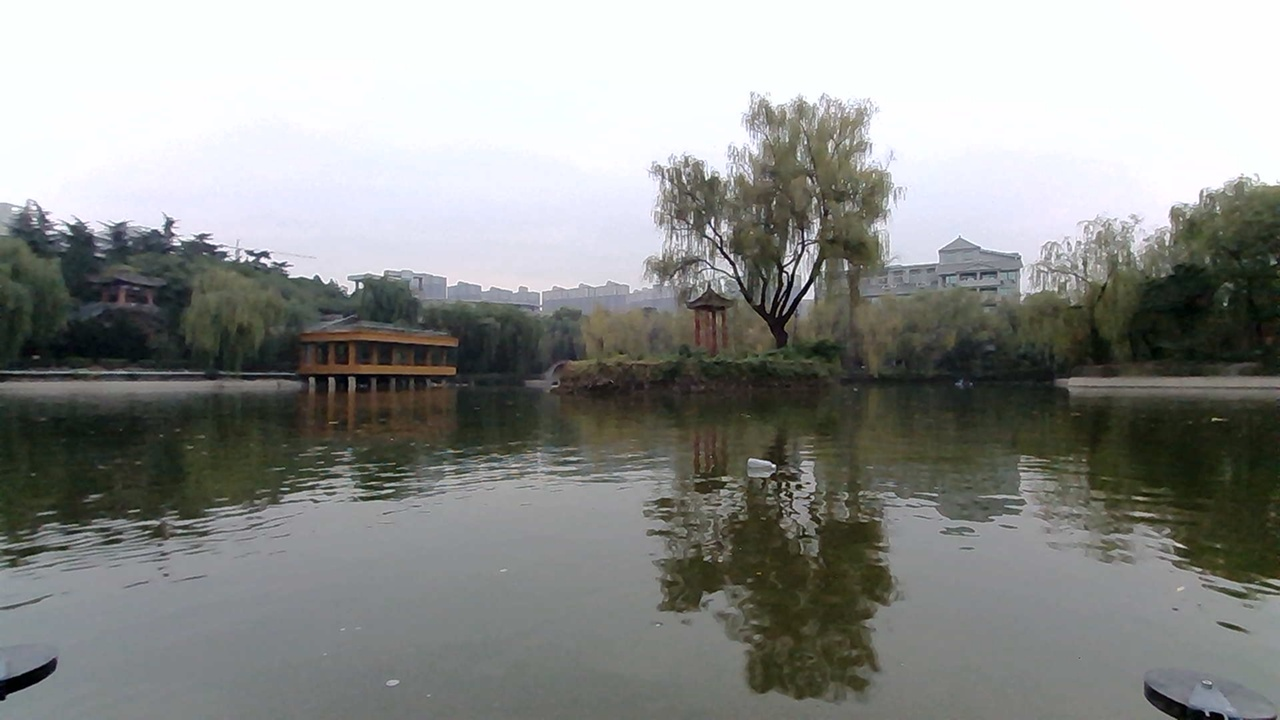bottle: (728, 442, 792, 475)
